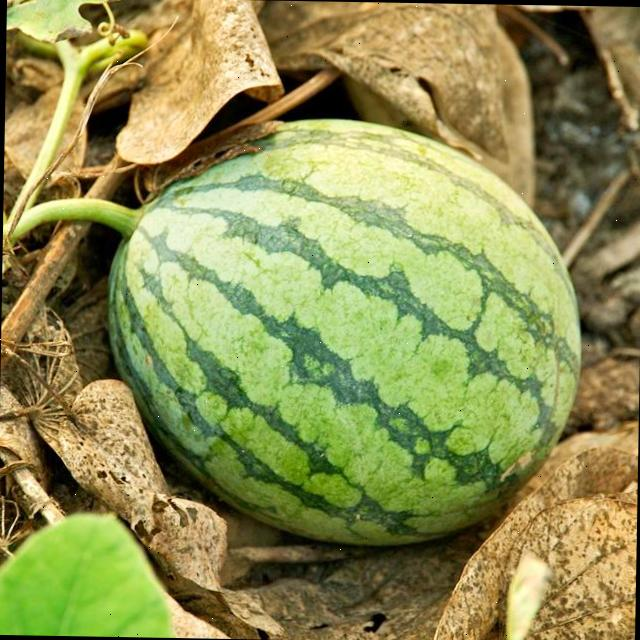watermelon: (82, 123, 588, 506)
